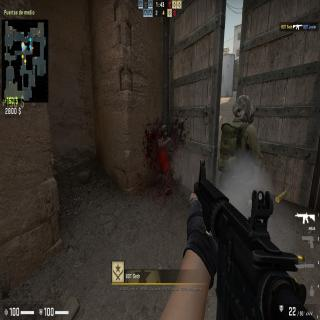CT-Head: (232, 92, 255, 123), (160, 123, 169, 140)
